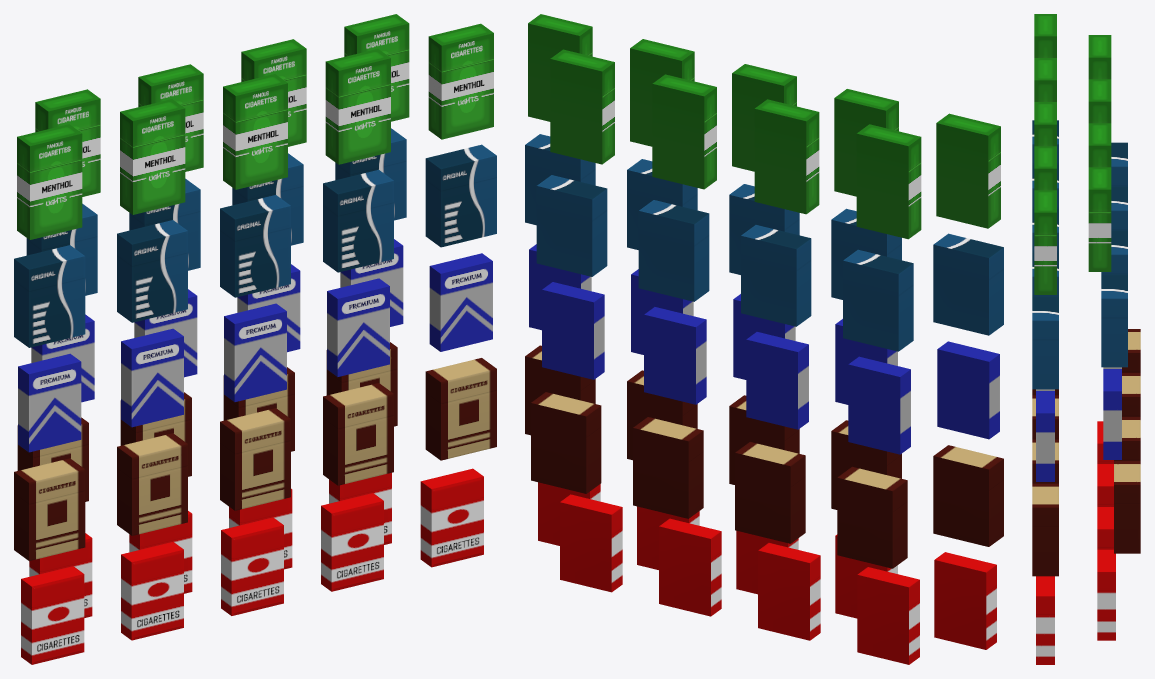
File: CommFoodStuffs03_4.FBX
3 views of the same model, side by side, from view 1: azimuth 30°, elevation 25°; view 2: azimuth 150°, elevation 25°; view 3: azimuth 270°, elevation 25° (orthographic). The views are drawn at different scales.
Parts seen in each view (by area): view 1: CommFoodStuffs03_4; view 2: CommFoodStuffs03_4; view 3: CommFoodStuffs03_4.
Boxes of the visible parts, x1,y1,x2,y2 form: CommFoodStuffs03_4: (14, 14, 496, 664); CommFoodStuffs03_4: (525, 14, 1003, 664); CommFoodStuffs03_4: (1032, 14, 1140, 664).
Size of what is drawn, in the model's own units: 0.9188 by 0.9763 by 0.2099.
